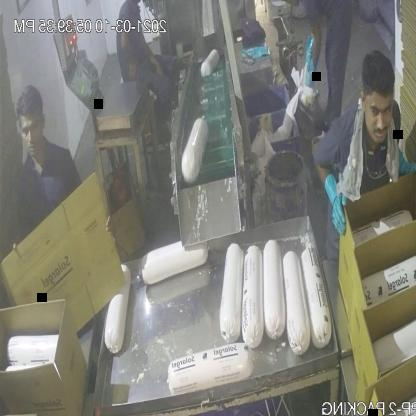glove: (323, 169, 350, 242)
